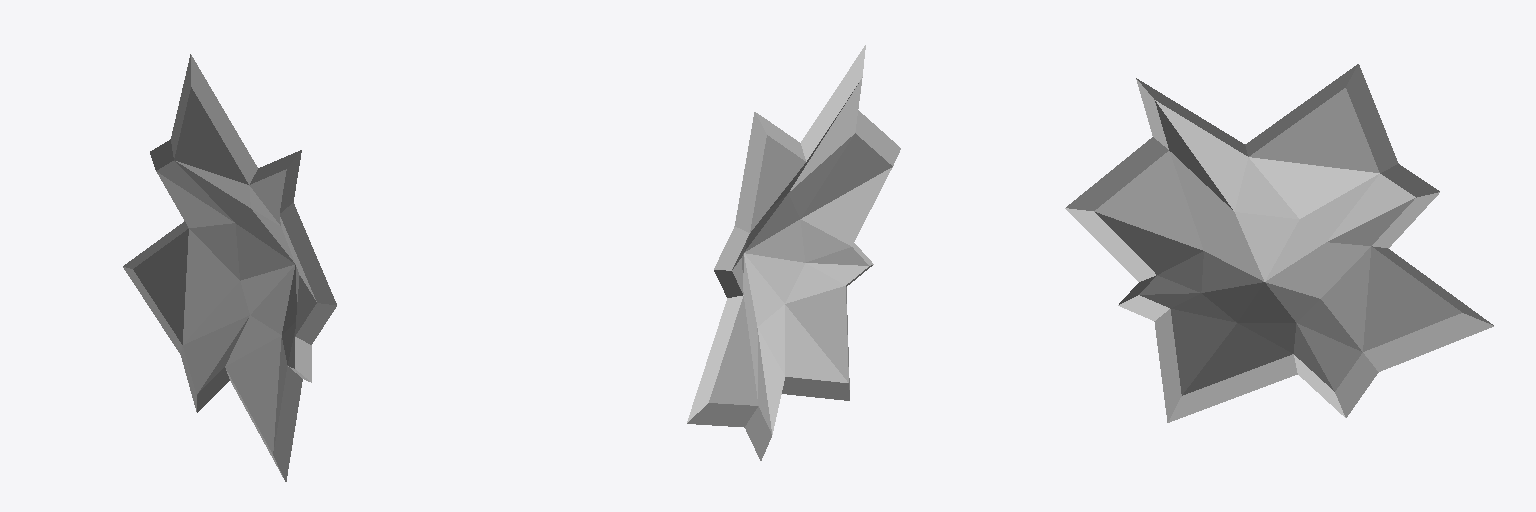
File: boom0.obj
The picture shows the model from 3 angles: view 1: azimuth 30°, elevation 25°; view 2: azimuth 150°, elevation 25°; view 3: azimuth 270°, elevation 25°; orthographic projection.
Parts seen in each view (by area): view 1: boom0; view 2: boom0; view 3: boom0.
Boxes of the visible parts, <box> form: boom0: <box>123,54,336,481</box>; boom0: <box>687,45,900,460</box>; boom0: <box>1065,64,1493,422</box>.
Size of the model in its own units: 9.78 by 52.71 by 57.05.